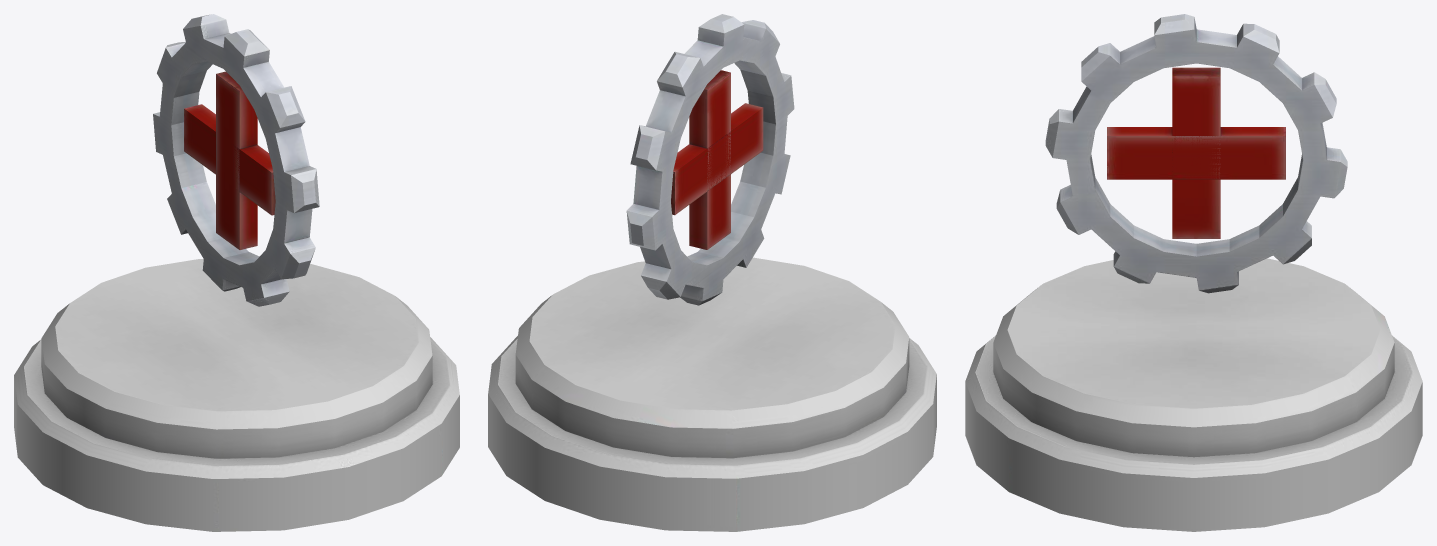
File: CRUZPRATA.fbx
3 views of the same model, side by side, from view 1: azimuth 30°, elevation 25°; view 2: azimuth 150°, elevation 25°; view 3: azimuth 270°, elevation 25° (orthographic). The views are drawn at different scales.
Parts seen in each view (by area): view 1: polySurface35, polySurface38; view 2: polySurface35, polySurface38; view 3: polySurface35, polySurface38.
Part boxes in pixels (bbox=[...]): polySurface35: bbox=[14, 259, 459, 531]; polySurface38: bbox=[153, 14, 319, 306]; polySurface35: bbox=[488, 257, 936, 531]; polySurface38: bbox=[626, 14, 794, 305]; polySurface35: bbox=[965, 258, 1422, 531]; polySurface38: bbox=[1045, 14, 1347, 293].
Bounding box in the file's own units: 0.4773 × 0.4821 × 0.4773.
1 material, 1 textured.
